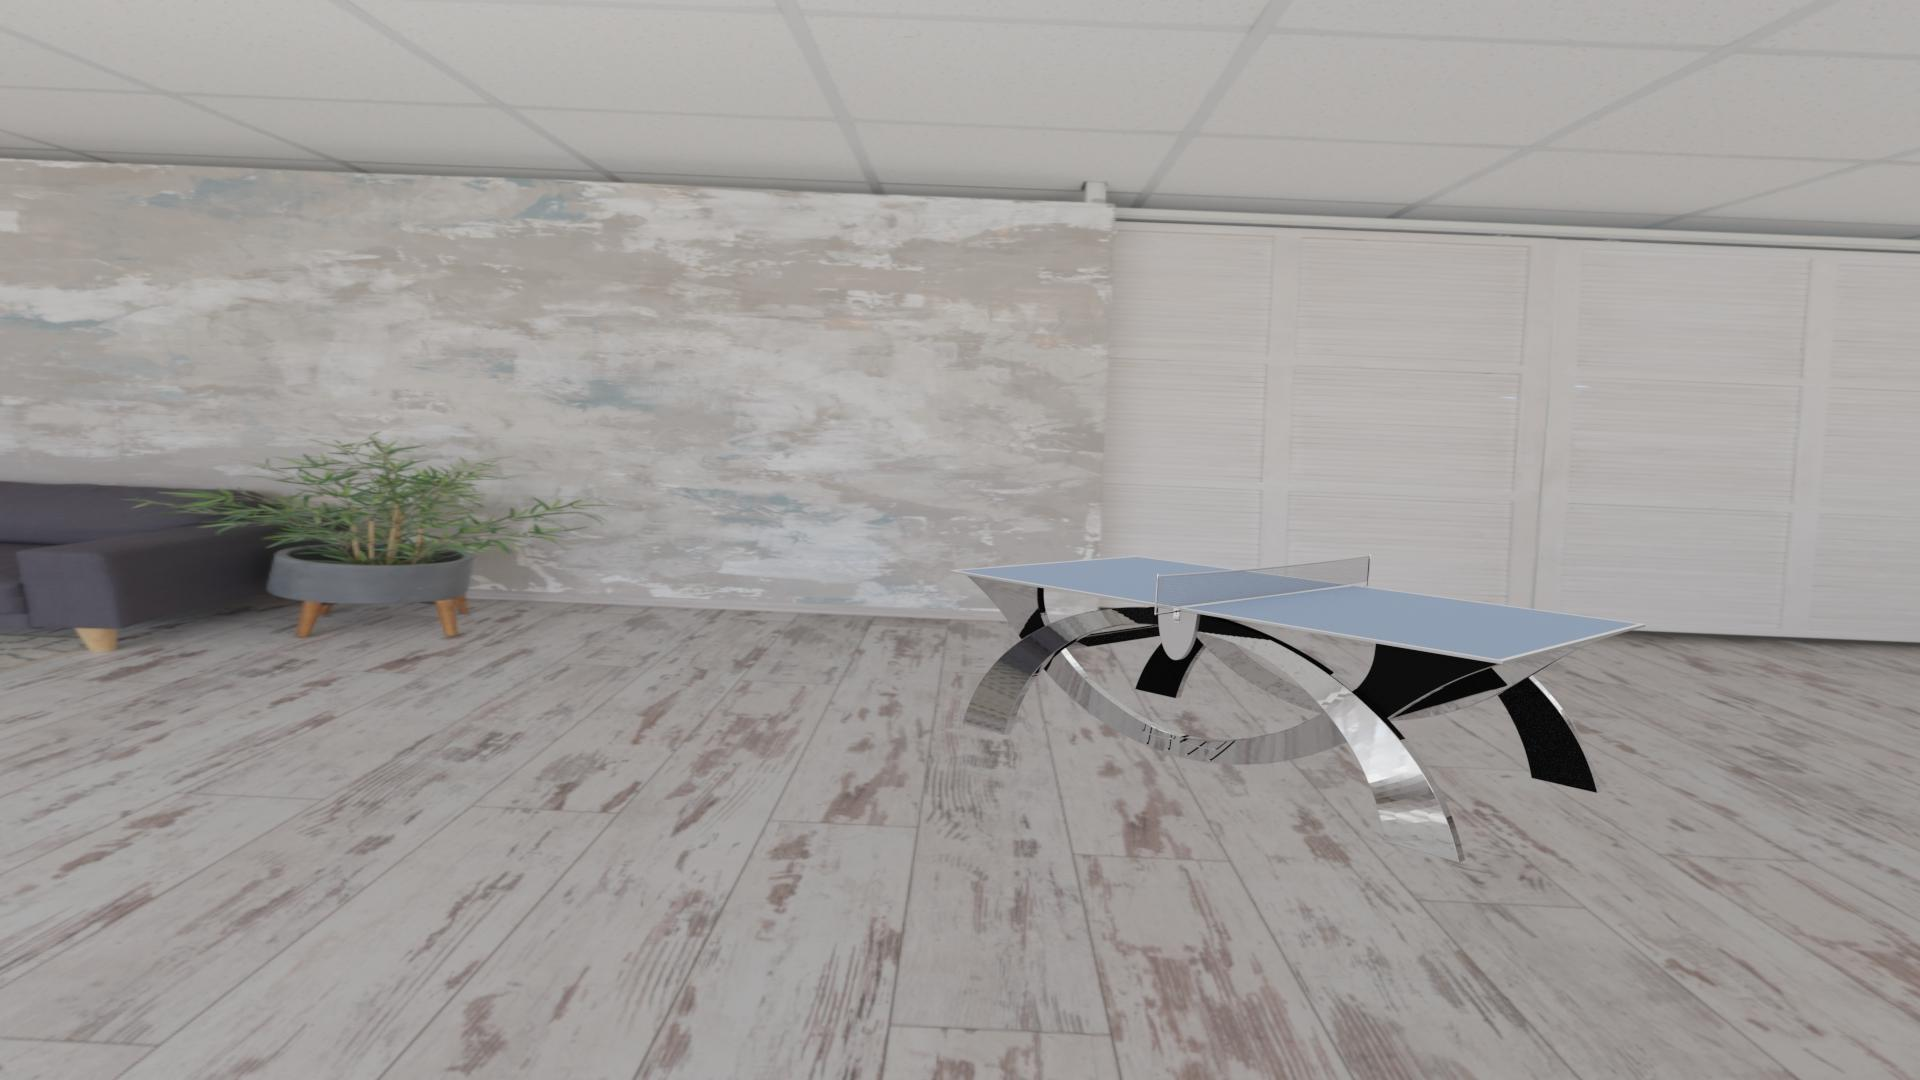table: (956, 556, 1639, 659)
